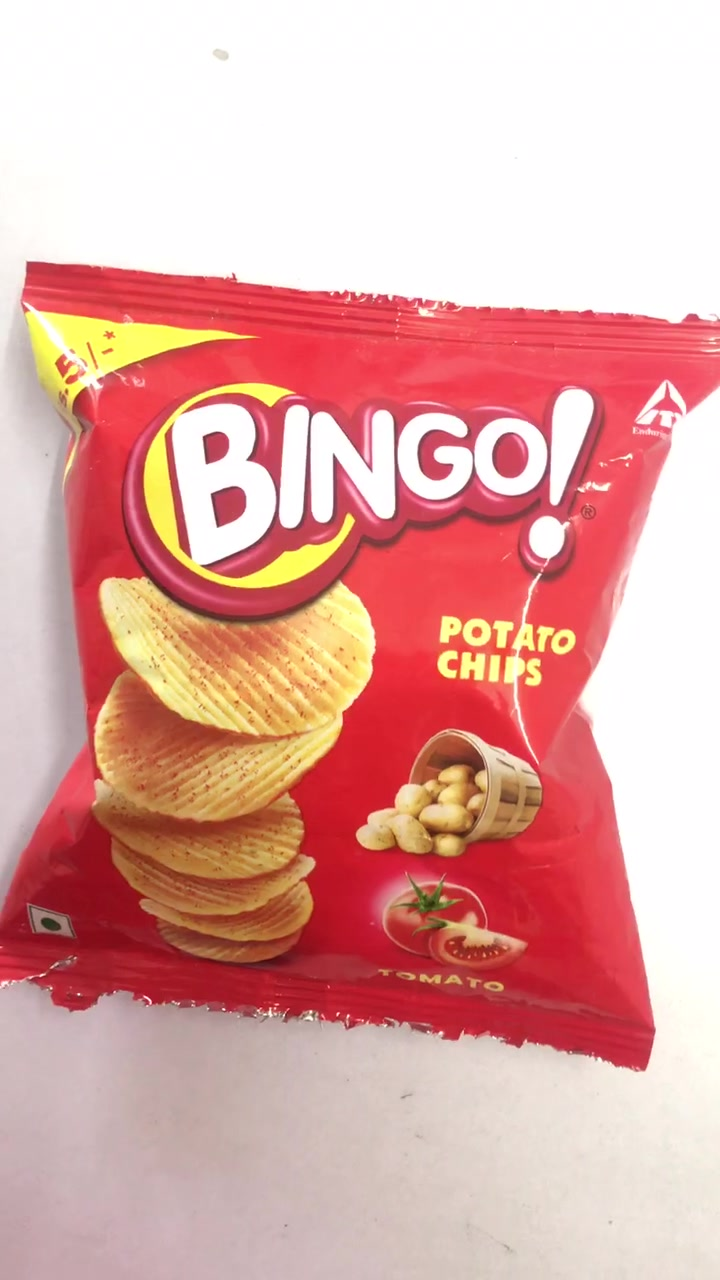Bingo: (19, 257, 720, 1080)
